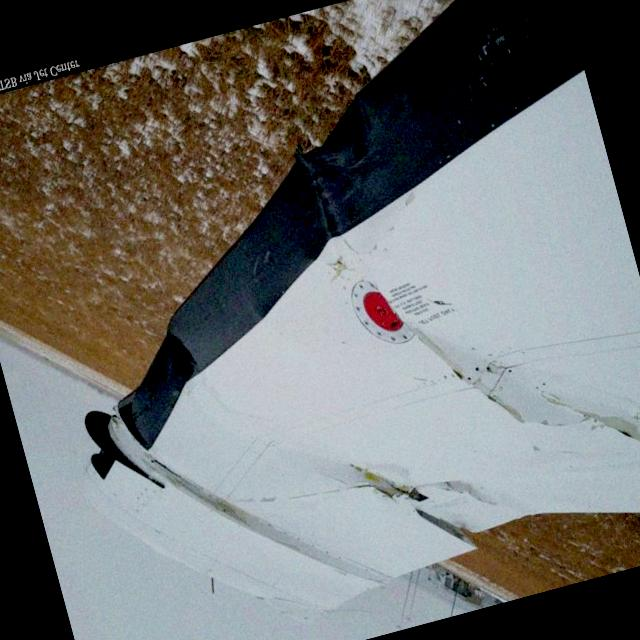crack: (401, 258, 640, 514), (350, 431, 490, 576)
